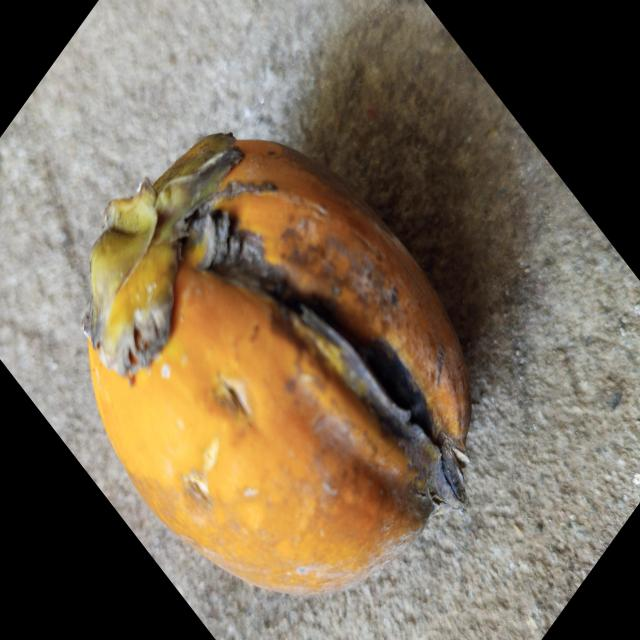damaged: (85, 134, 470, 593)
